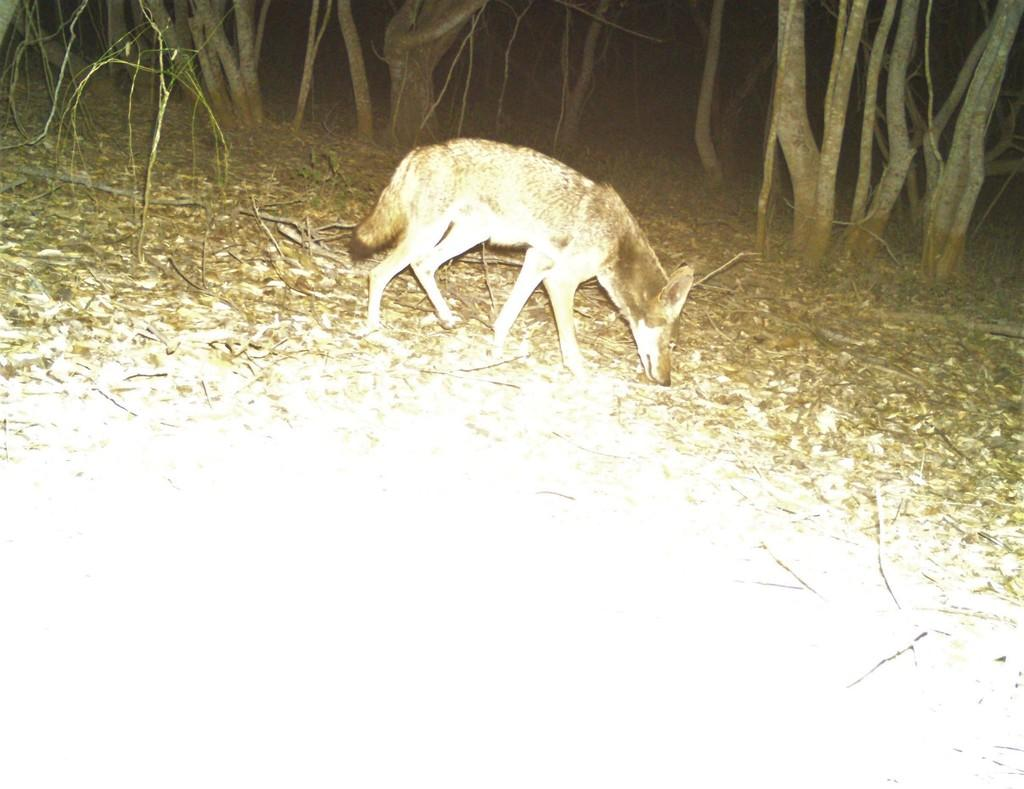Coyote: (348, 139, 703, 392)
